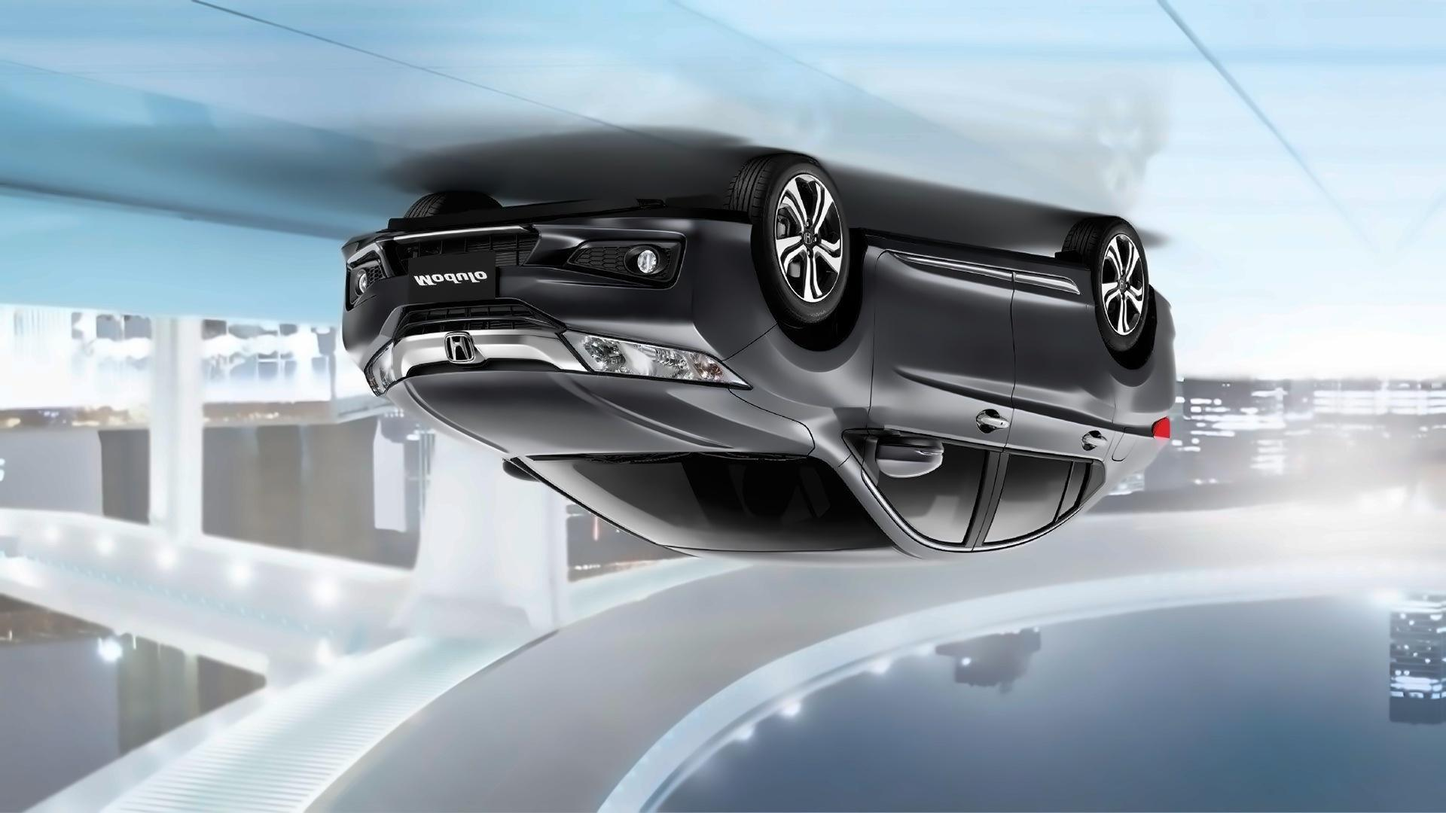Car hood: (385, 369, 814, 460)
Driver-s door - -F-R-: (855, 202, 1030, 572)
Fender - -F-R-: (724, 216, 880, 472)
Fender - -R-R-: (1093, 263, 1190, 515)
Front bumper: (326, 201, 773, 367)
Headlight - -L-: (366, 339, 406, 399)
Headlight - -R-: (559, 331, 750, 387)
Passenger-s door - -R-R-: (968, 221, 1112, 568)
Side bumper - -R-: (856, 215, 1107, 327)
Side mirror - -R-: (841, 422, 943, 479)
